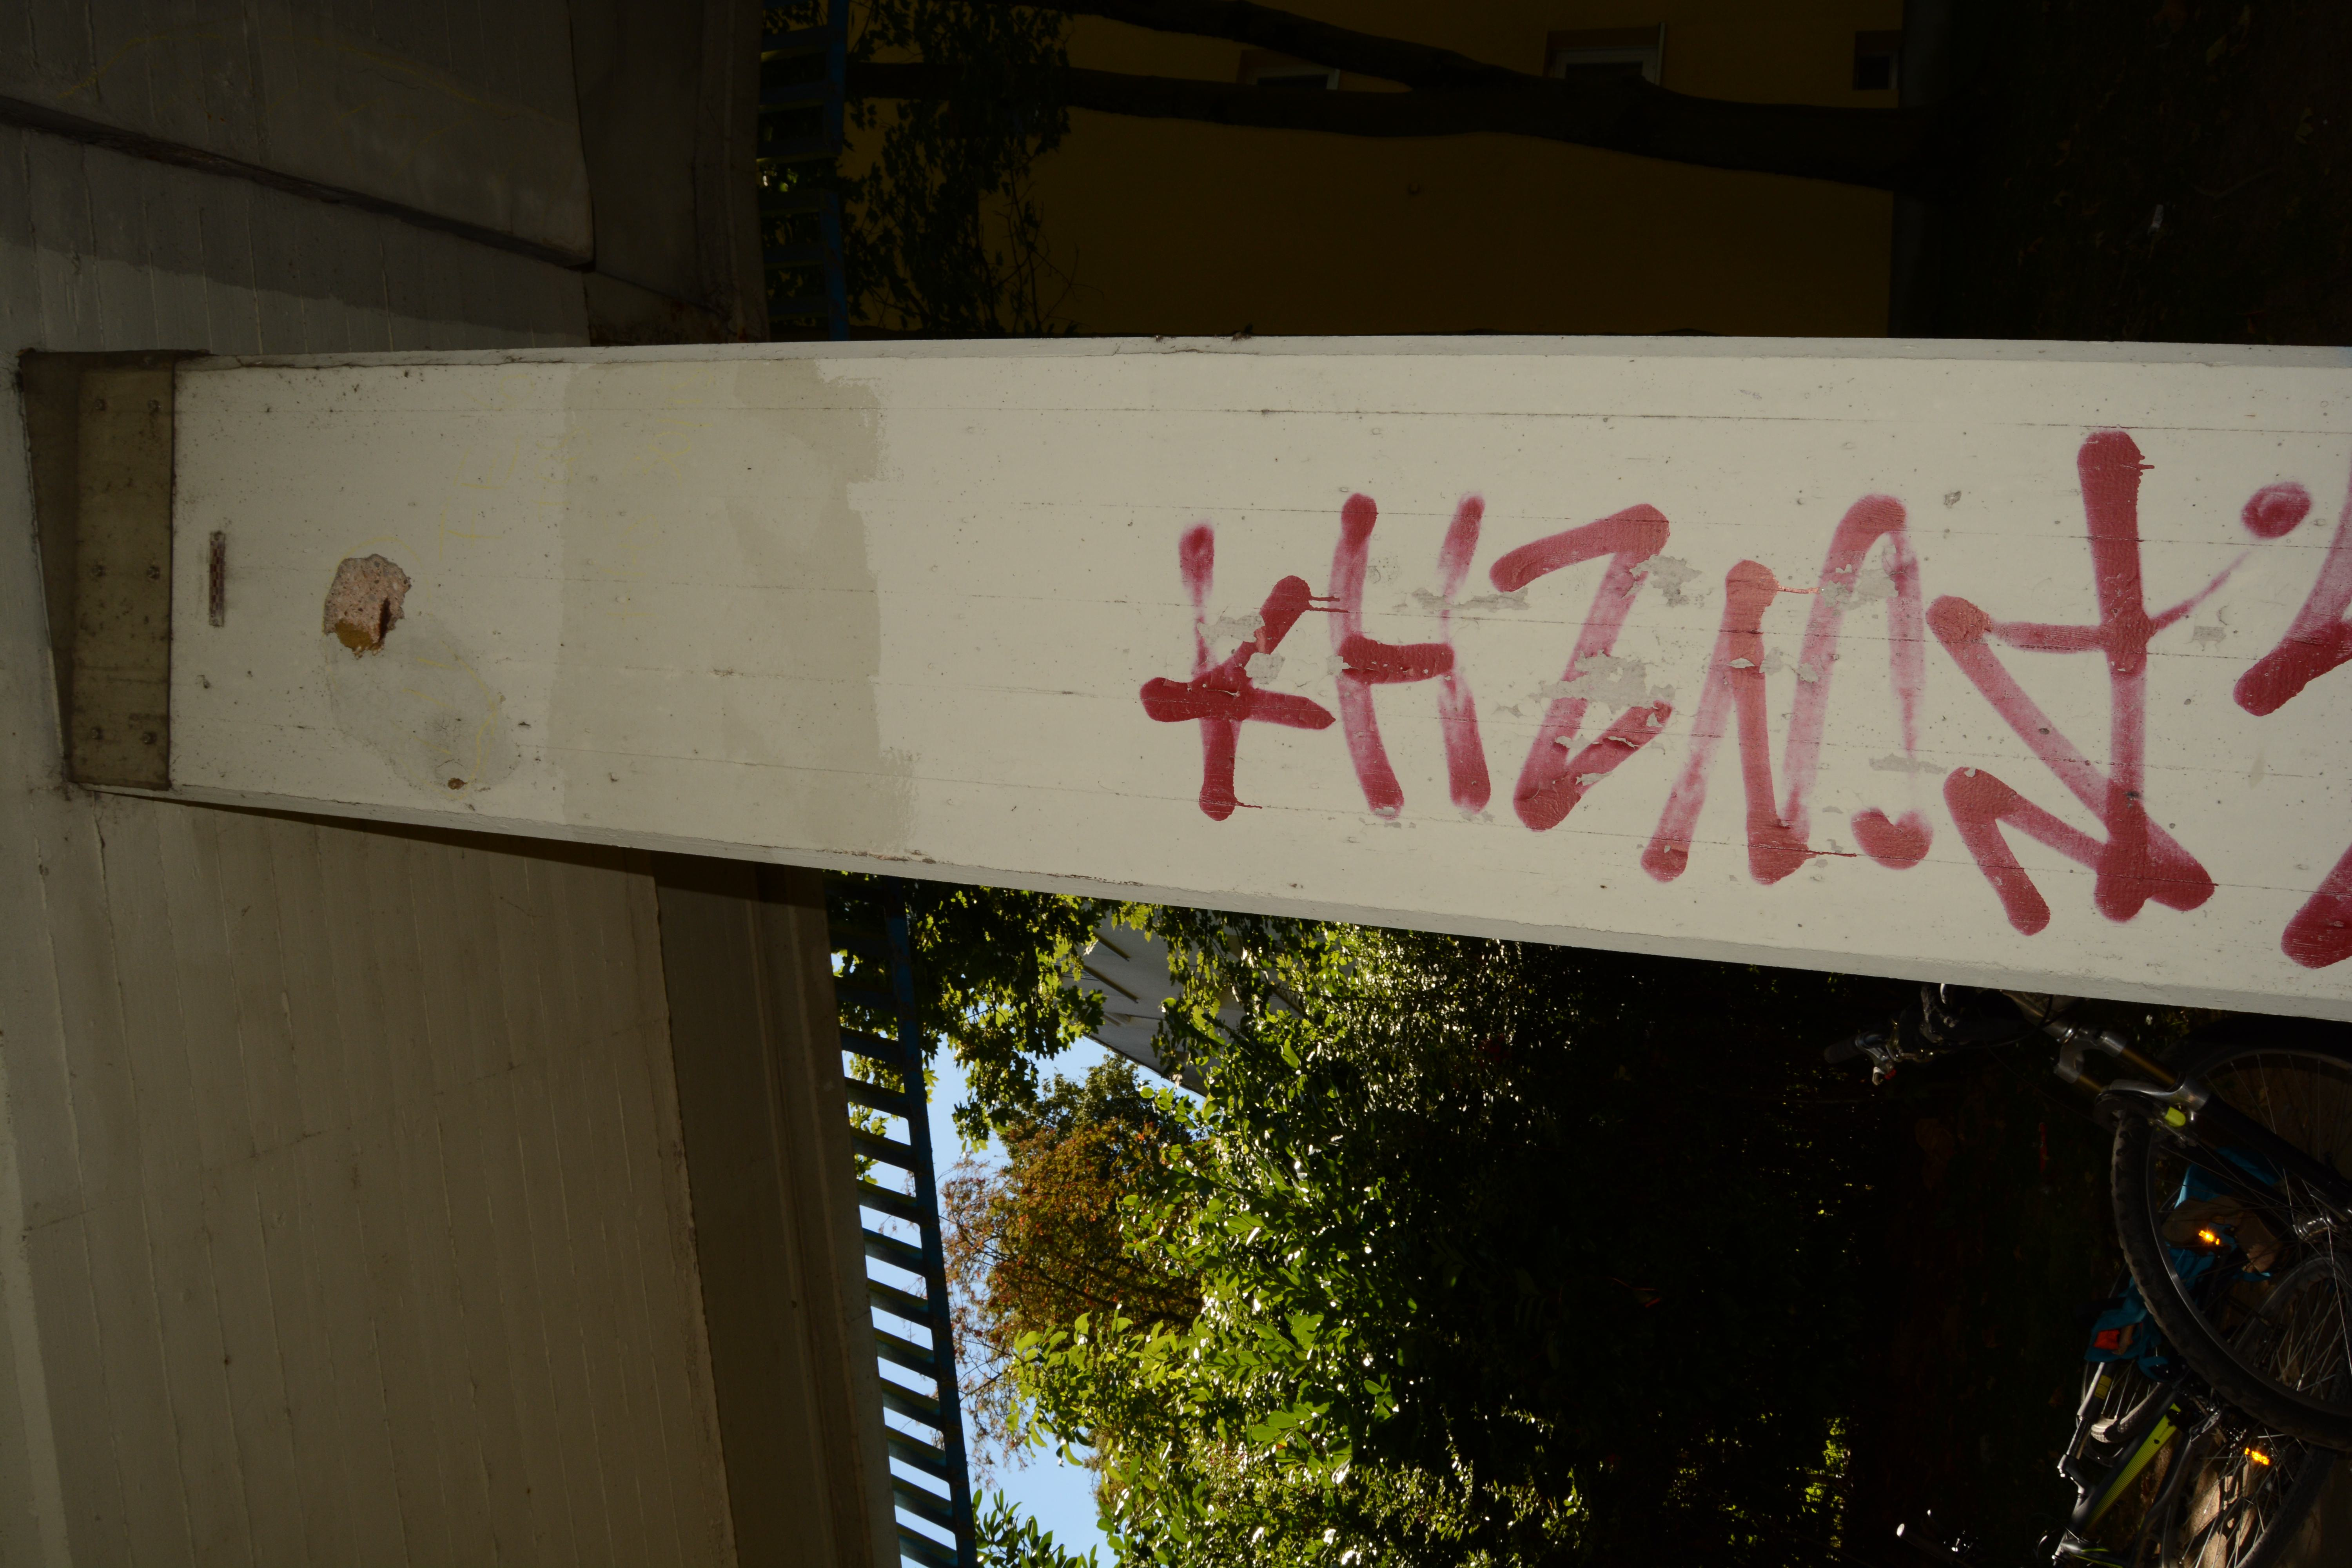Corrosion: (448, 777, 467, 791)
Exposed reinforcement: (378, 597, 392, 644)
Spalling: (1528, 647, 1675, 714), (322, 553, 411, 660), (1817, 563, 1899, 618), (1620, 555, 1698, 605), (1410, 586, 1529, 614), (1197, 611, 1265, 647), (1869, 752, 1955, 773), (1244, 653, 1284, 684), (1757, 646, 1785, 677), (1554, 733, 1601, 751), (1358, 817, 1418, 829), (1575, 770, 1613, 786), (1792, 663, 1820, 684), (1458, 810, 1496, 824), (1493, 703, 1522, 719), (1608, 735, 1640, 749), (1724, 656, 1755, 670), (1326, 654, 1344, 677), (1367, 565, 1381, 585), (1374, 805, 1396, 816), (1822, 805, 1843, 816), (1827, 838, 1843, 852), (1885, 543, 1897, 555), (1813, 857, 1827, 868)
